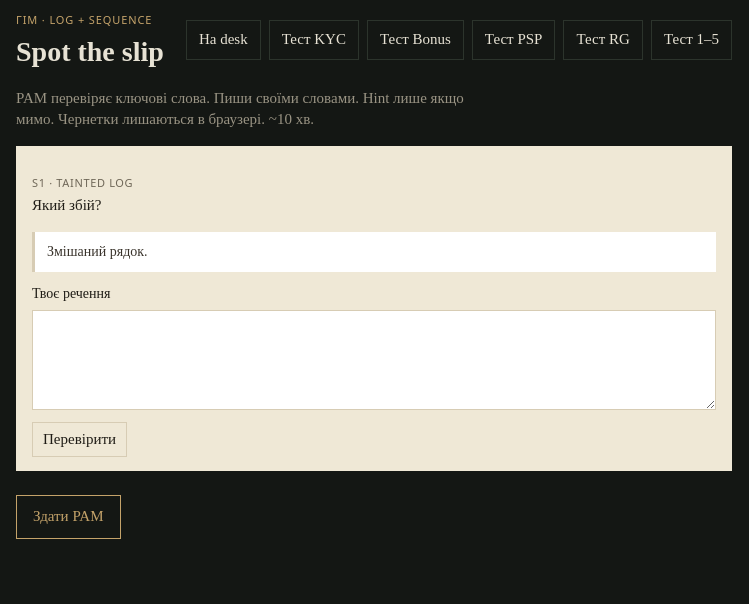
Test: check shows hint when wrong
The image size is (749, 604).
Expected: the text "Який збій?" is shown, [32,197,102,213]
In the text box with test id "s1-text": (374, 360) [32,310,716,410], type "все добре"
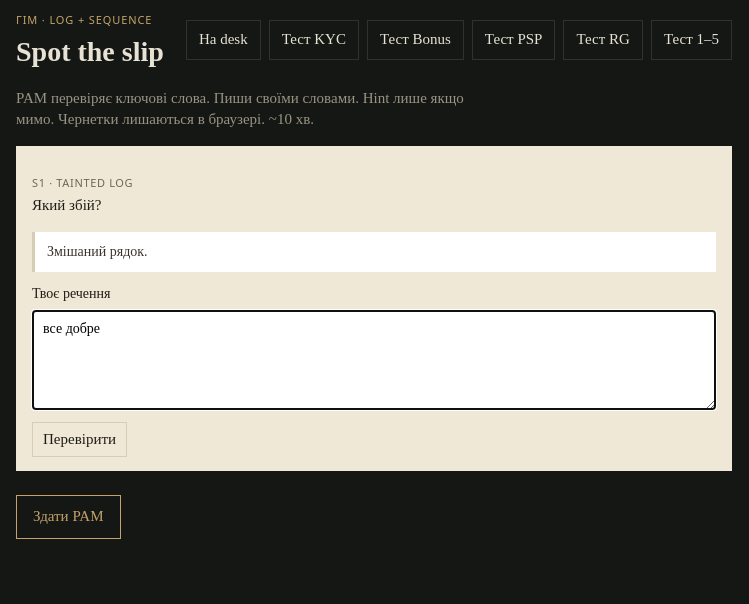
Click the button with test id "check-s1": (80, 439) [32,422,127,457]
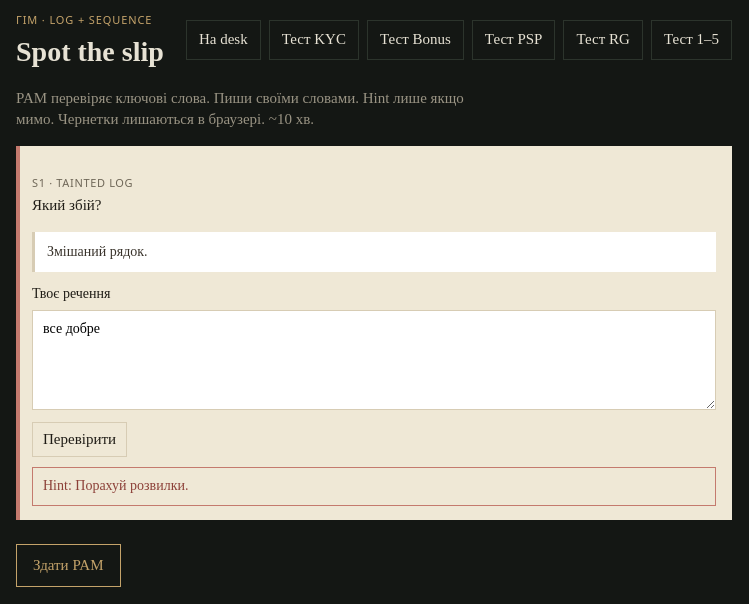
Now the text with test id "hint-s1" shows "розвил", box [75,478,188,493]
